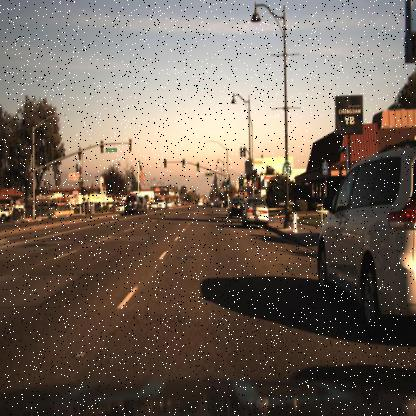car: (316, 136, 415, 337), (240, 192, 270, 233), (224, 192, 242, 223), (122, 191, 142, 217), (125, 192, 140, 214), (110, 201, 126, 217)
trafficLight-Green: (194, 158, 202, 174), (182, 157, 187, 170), (226, 180, 231, 192)
